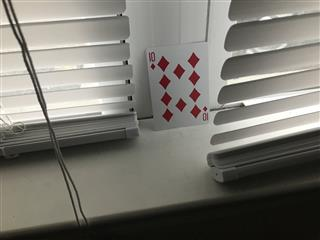TenOfDiamonds: (144, 40, 210, 131)
